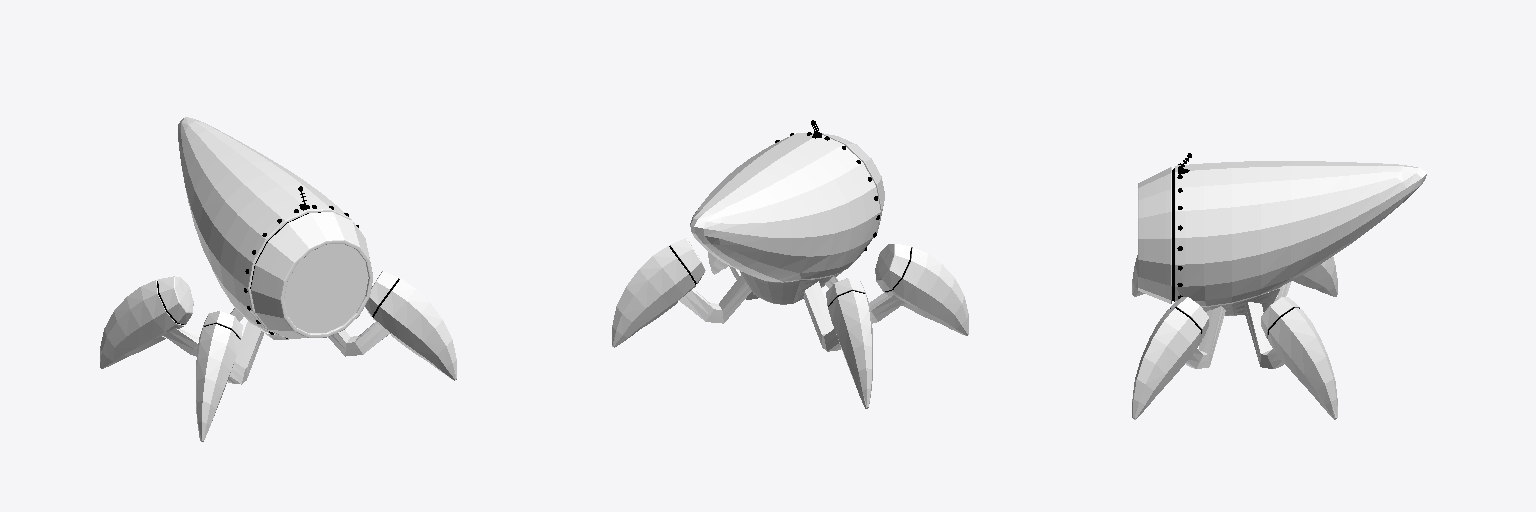
The picture shows the model from 3 angles: view 1: azimuth 30°, elevation 25°; view 2: azimuth 150°, elevation 25°; view 3: azimuth 270°, elevation 25°; orthographic projection.
Visible parts, largest first — view 1: Cylinder, Body.002, Cylinder.001; view 2: Cylinder, Body.002; view 3: Cylinder, Body.002.
Boxes of the visible parts, <box> form: Cylinder: <box>178,117,372,339</box>; Body.002: <box>100,271,456,441</box>; Cylinder.001: <box>284,244,368,332</box>; Cylinder: <box>690,133,884,304</box>; Body.002: <box>612,238,968,408</box>; Cylinder: <box>1138,161,1426,315</box>; Body.002: <box>1132,255,1337,419</box>.
Bounding box in the file's own units: 1.21 × 0.9235 × 1.21.